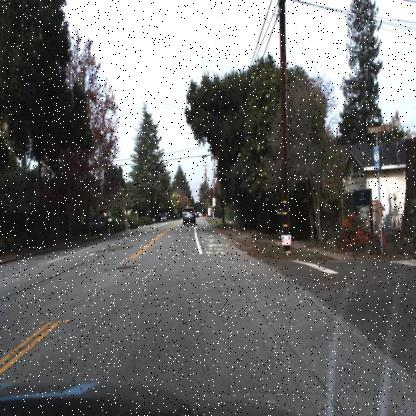car: (83, 212, 105, 235), (181, 204, 198, 227)
